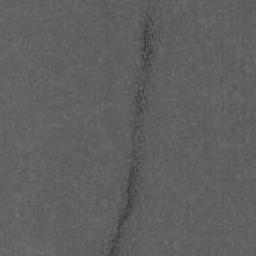Inclusion: (99, 13, 157, 256)
